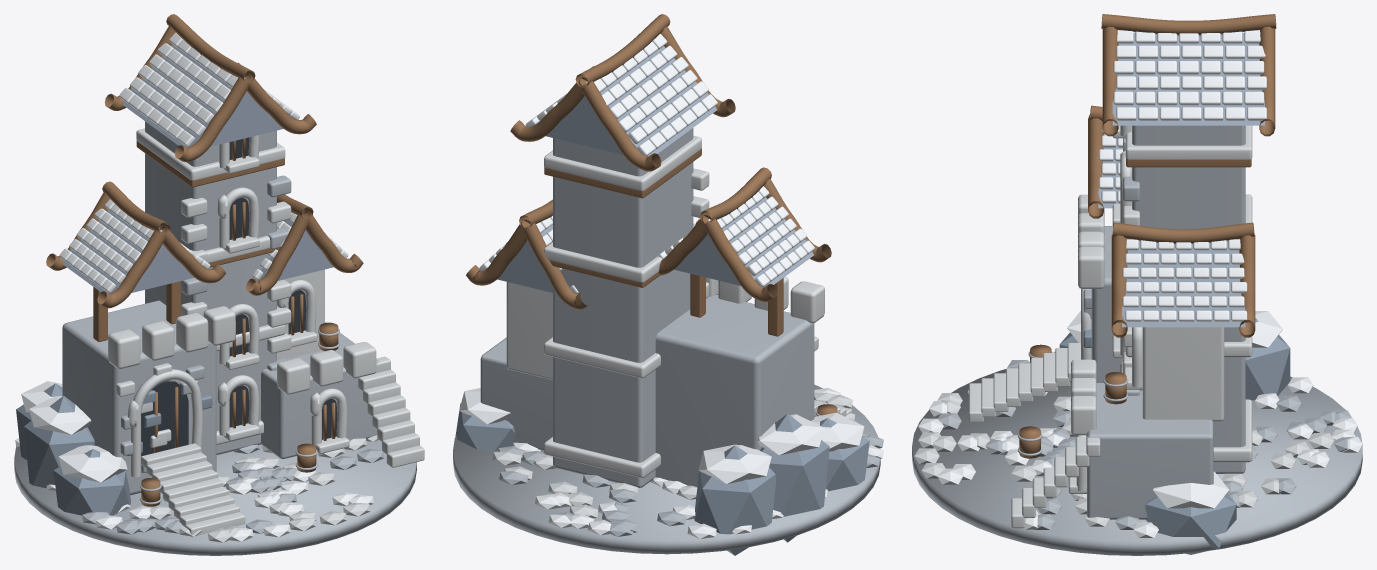
3 views of the same model, side by side, from view 1: azimuth 30°, elevation 25°; view 2: azimuth 150°, elevation 25°; view 3: azimuth 270°, elevation 25° (orthographic). The views are drawn at different scales.
Visible parts, largest first — view 1: circular stone foundation, main tower, left gatehouse, right terrace, gable roof mass, cliff boulder.001, cliff boulder, gable roof mass.001, arched stone window surround.004, arched dark opening.004, snow on boulder.001, tower projecting belt.003 (+51 smaller); view 2: main tower, left gatehouse, circular stone foundation, right terrace, cliff boulder.002, right small house, cliff boulder, gable roof mass, gable roof mass.001, tower projecting belt.003, snow on boulder.002, tower projecting belt (+24 smaller); view 3: circular stone foundation, main tower, right terrace, right small house, gable roof mass, gable roof mass.002, cliff boulder.003, ridge beam, left gatehouse, cliff boulder.002, tower projecting belt.003, ridge beam.002 (+15 smaller).
Part boxes in pixels (x1,y1,x2,y2): circular stone foundation: (14, 440, 416, 555); main tower: (145, 121, 276, 454); left gatehouse: (62, 300, 216, 495); right terrace: (261, 322, 378, 458); gable roof mass: (122, 44, 293, 147); cliff boulder.001: (53, 449, 130, 515); cliff boulder: (24, 395, 94, 488); gable roof mass.001: (62, 209, 194, 293); arched stone window surround.004: (127, 369, 202, 477); arched dark opening.004: (141, 381, 188, 472); snow on boulder.001: (58, 445, 127, 482); tower projecting belt.003: (136, 128, 285, 180); main tower: (553, 128, 693, 487); left gatehouse: (655, 295, 814, 486); circular stone foundation: (453, 384, 880, 554); right terrace: (480, 337, 552, 450); cliff boulder.002: (694, 445, 776, 555); right small house: (506, 282, 552, 379); cliff boulder: (760, 413, 829, 542); gable roof mass: (536, 46, 717, 156); gable roof mass.001: (674, 197, 813, 286); tower projecting belt.003: (544, 135, 701, 190); snow on boulder.002: (698, 444, 771, 483); tower projecting belt: (544, 436, 660, 477); circular stone foundation: (912, 369, 1362, 555); main tower: (1132, 125, 1245, 473); right terrace: (1087, 383, 1213, 519); right small house: (1142, 327, 1224, 421); gable roof mass: (1112, 33, 1264, 125); gable roof mass.002: (1122, 241, 1245, 327); cliff boulder.003: (1145, 493, 1236, 554); ridge beam: (1101, 14, 1276, 35); left gatehouse: (1091, 226, 1122, 382); cliff boulder.002: (1245, 318, 1290, 400); tower projecting belt.003: (1125, 125, 1252, 159); ridge beam.002: (1112, 222, 1254, 243).
Bounding box in the file's own units: 0.8389 × 1 × 0.8392.
